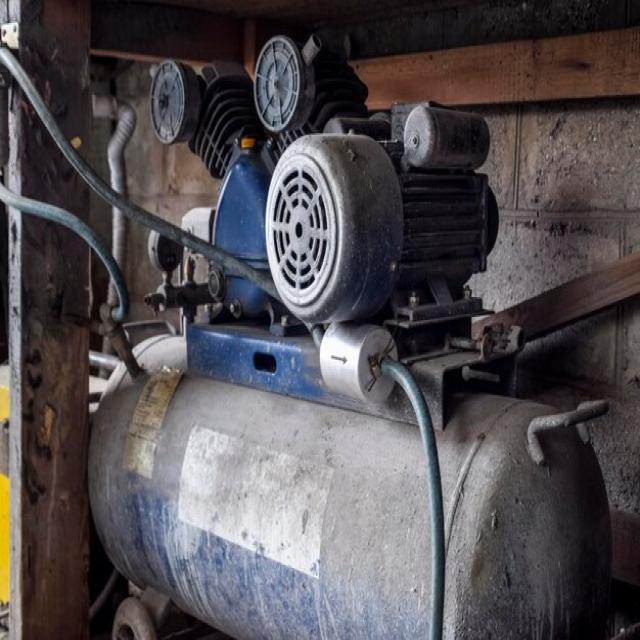compressor: (70, 31, 628, 640)
